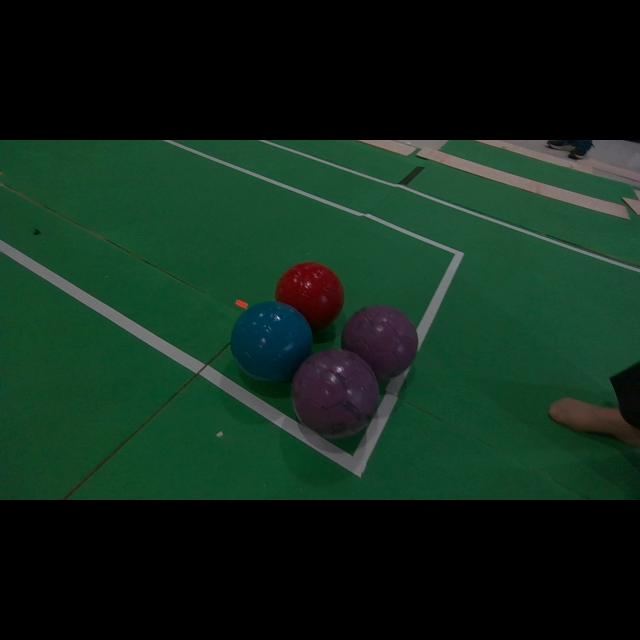B: (231, 301, 312, 382)
P: (291, 349, 379, 438), (341, 305, 418, 380)
R: (275, 264, 342, 330)
